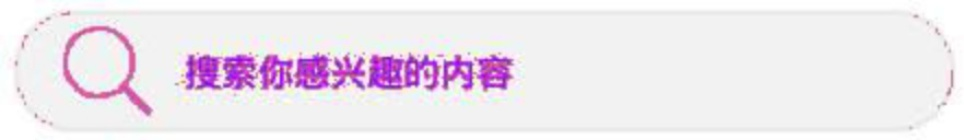EditText: (1, 1, 963, 139)
